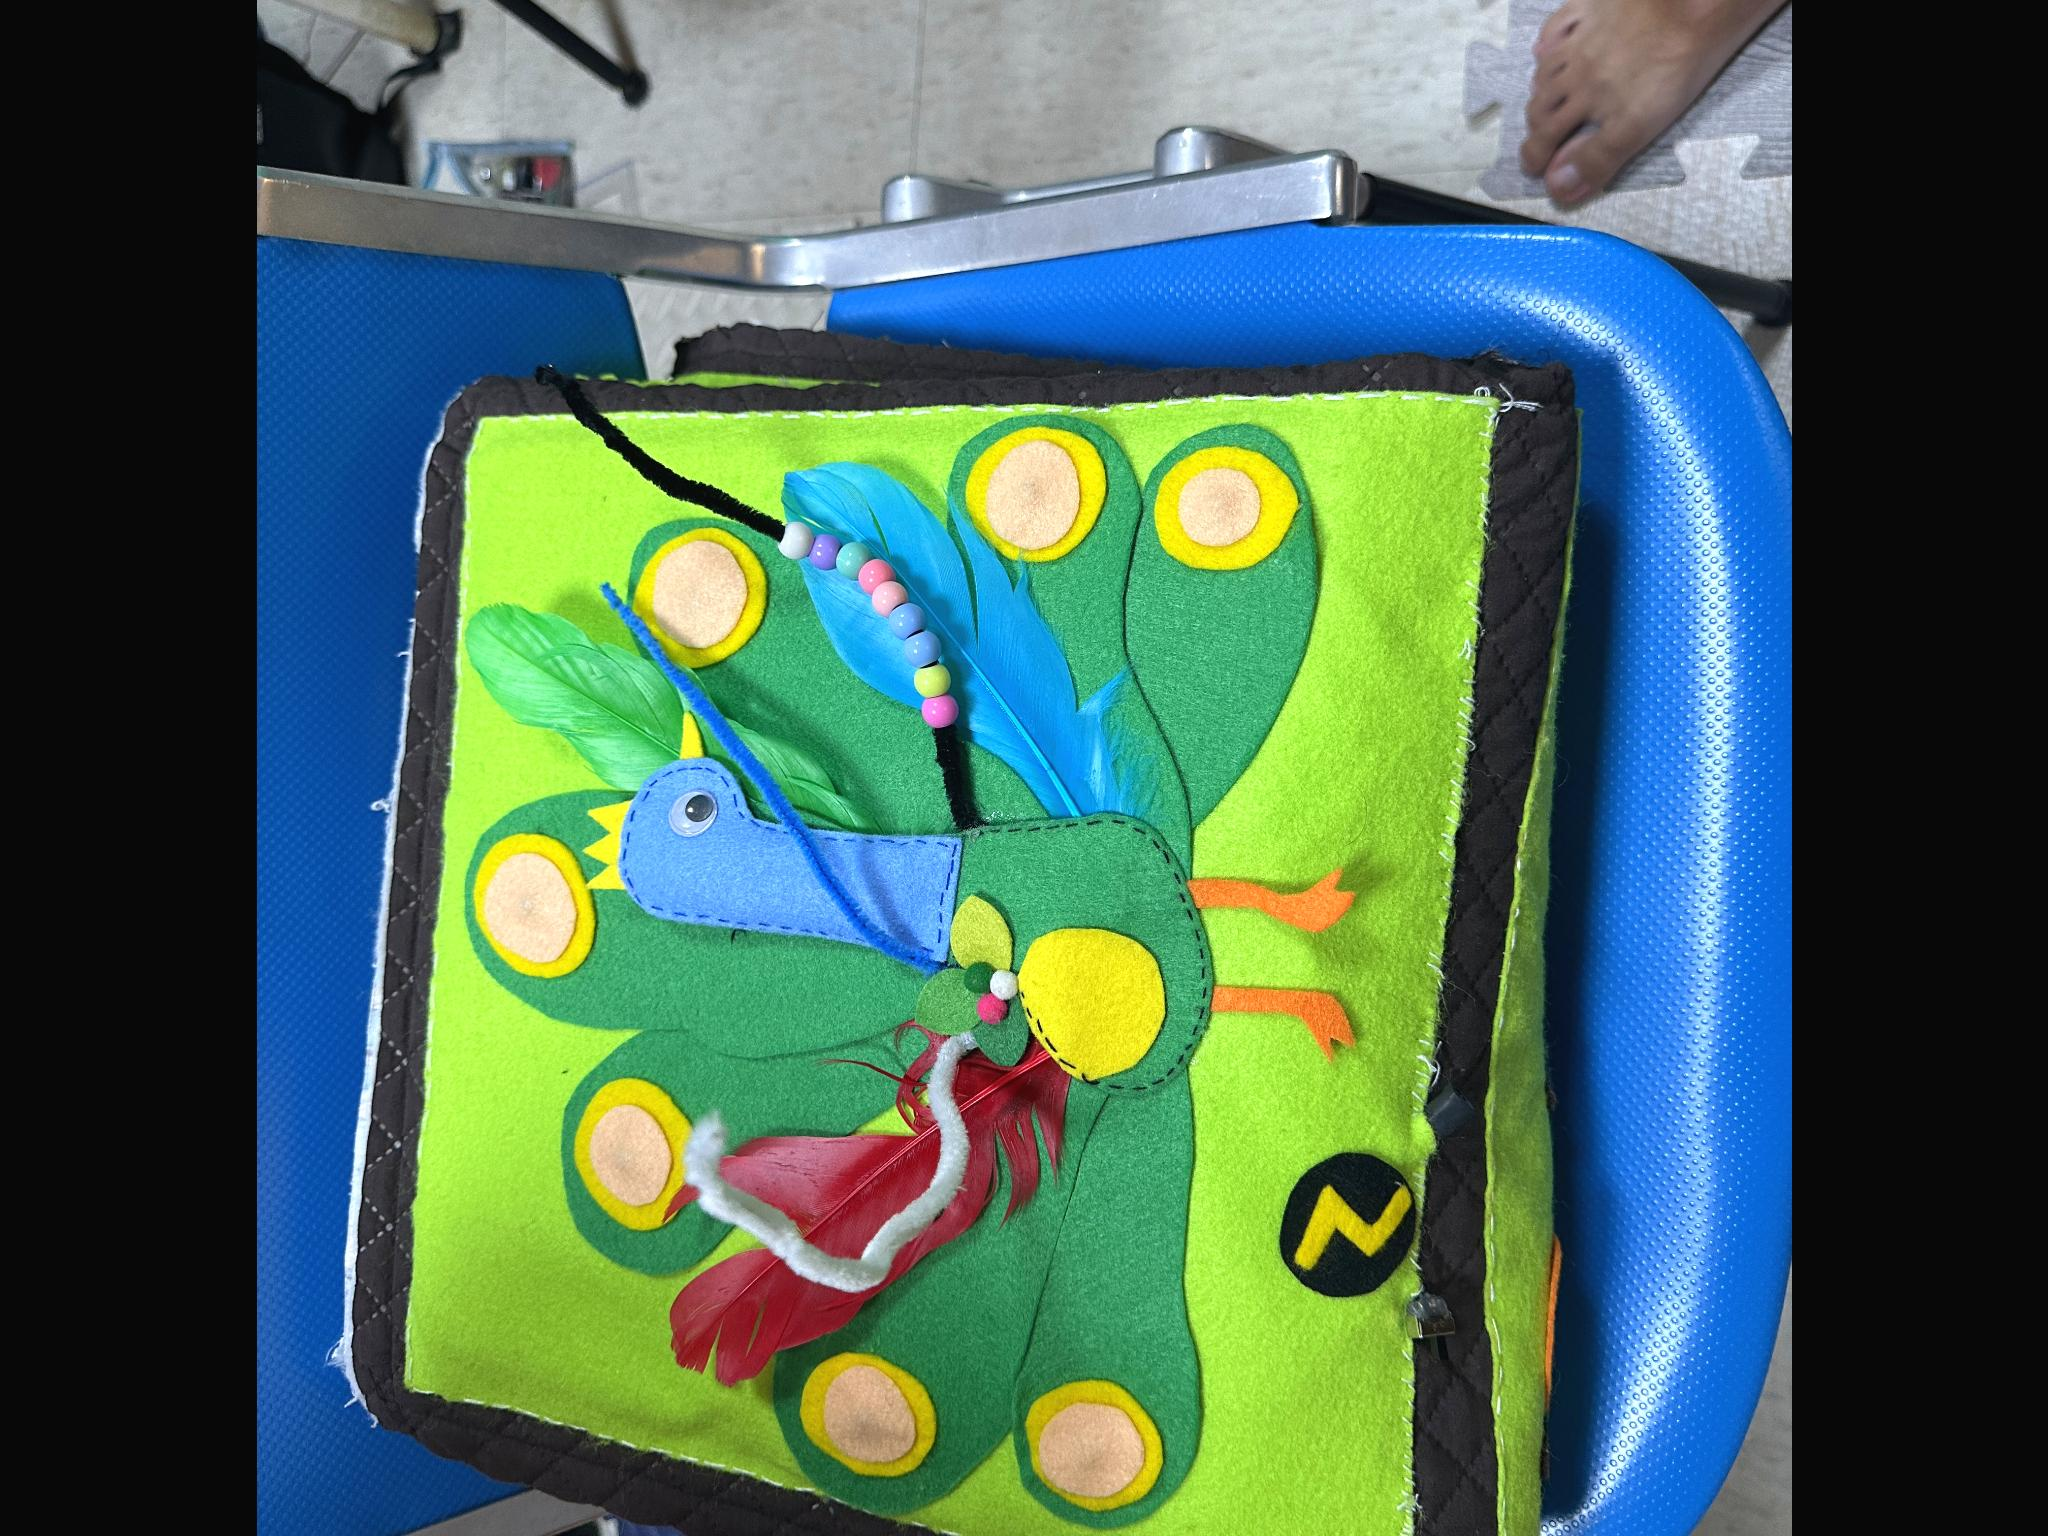bead: (893, 653, 956, 702), (879, 592, 929, 647), (771, 507, 806, 573), (803, 526, 840, 573), (853, 557, 884, 610), (898, 629, 942, 662), (837, 528, 861, 582), (919, 699, 976, 721), (872, 582, 906, 610)
